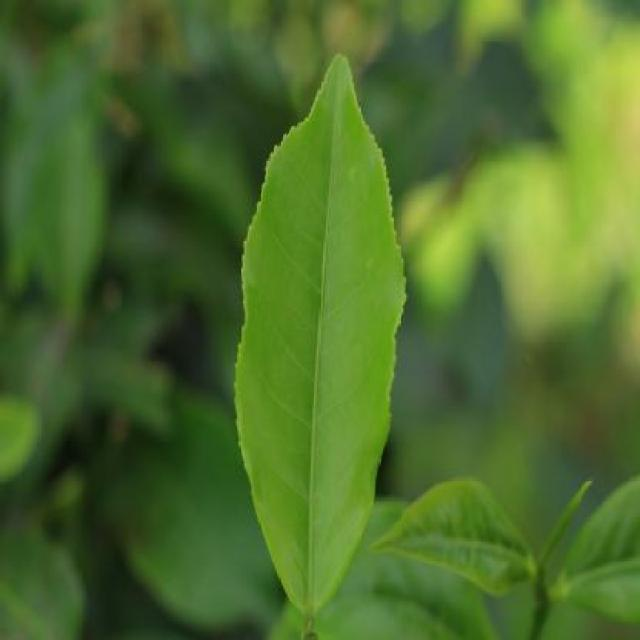Tea leaf: (231, 16, 400, 578)
